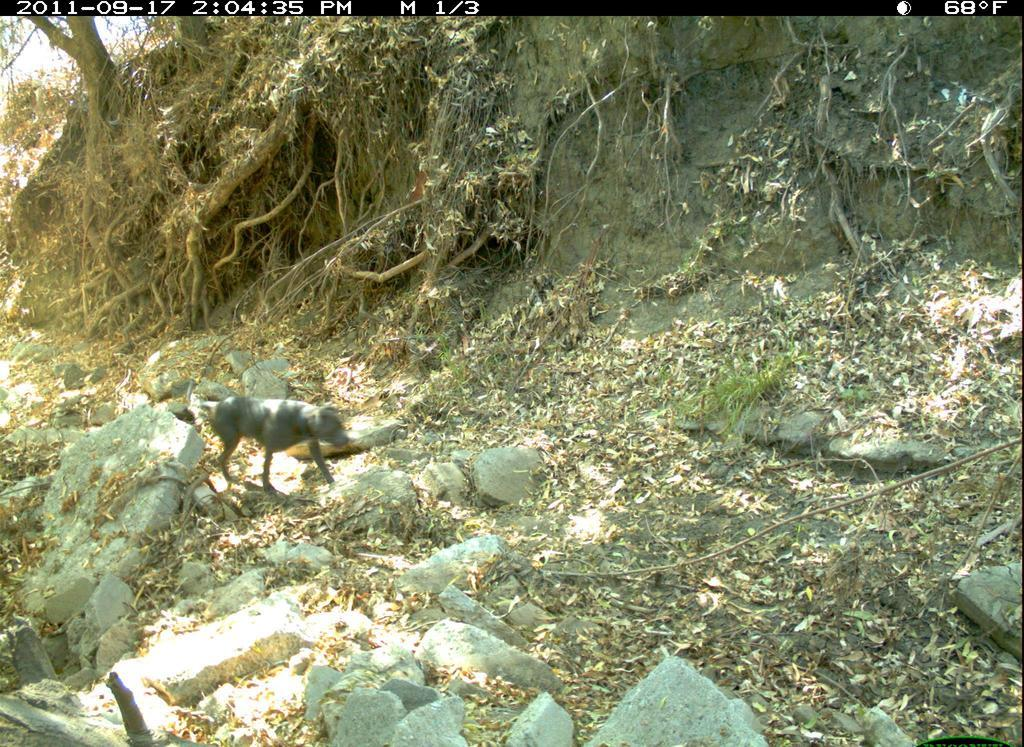dog: (195, 386, 355, 507)
